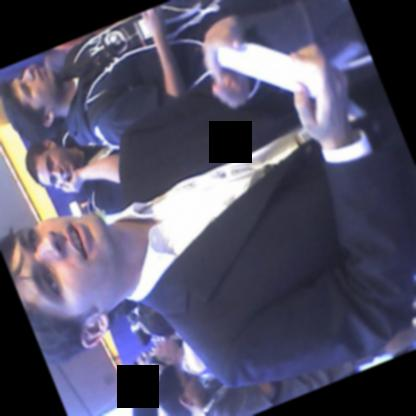backpack: (69, 32, 131, 136)
